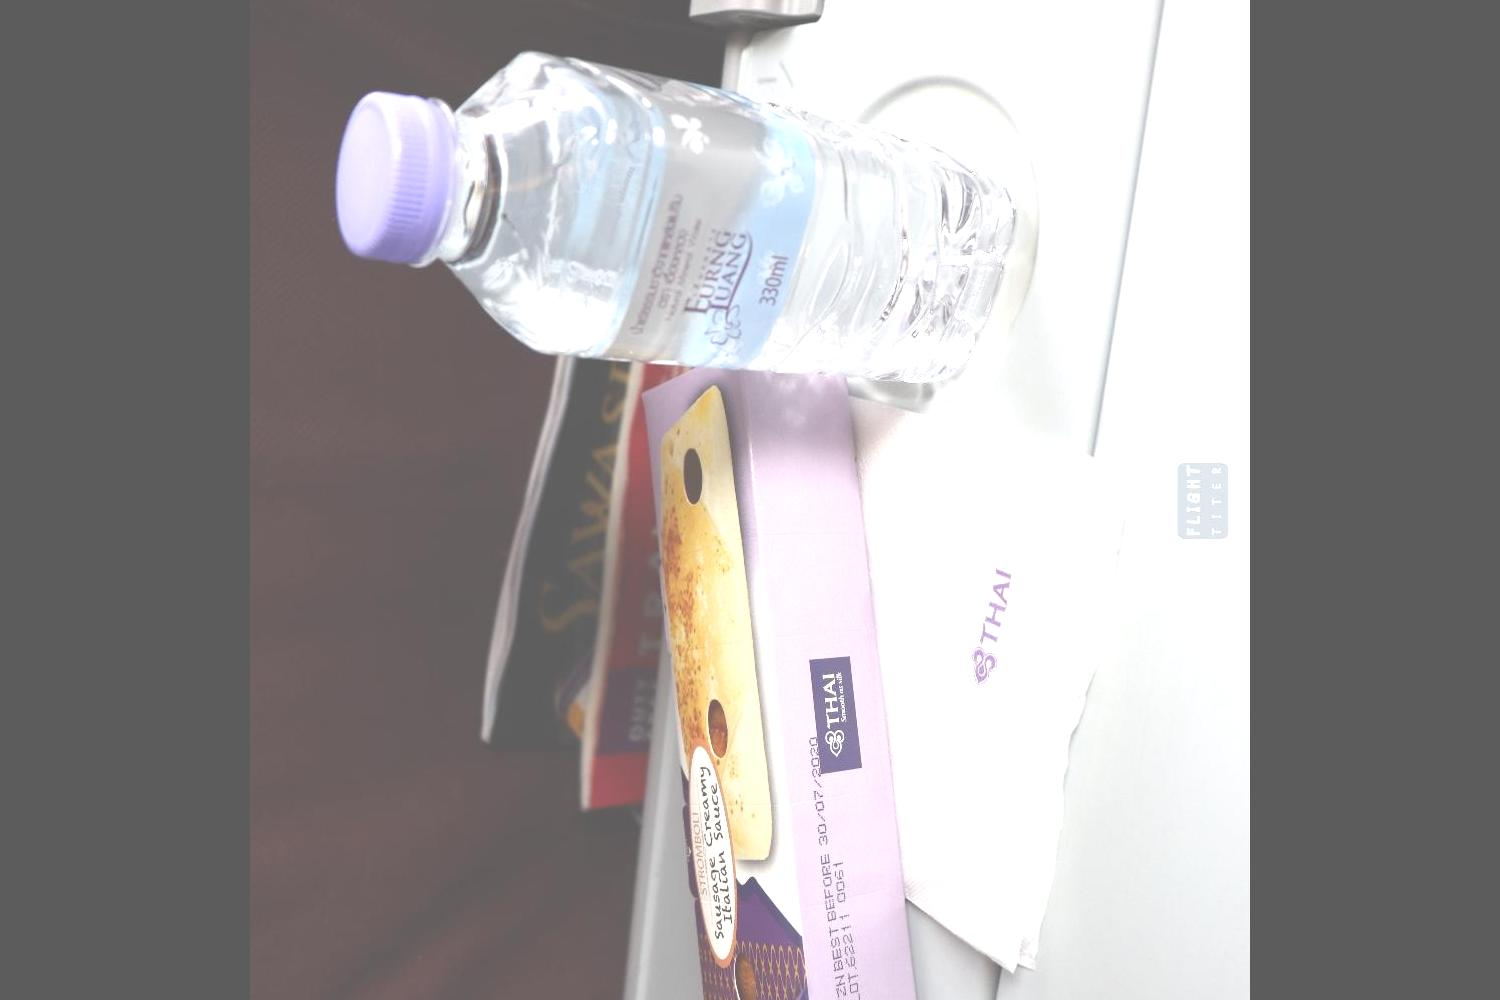bottle: (327, 37, 1048, 395)
